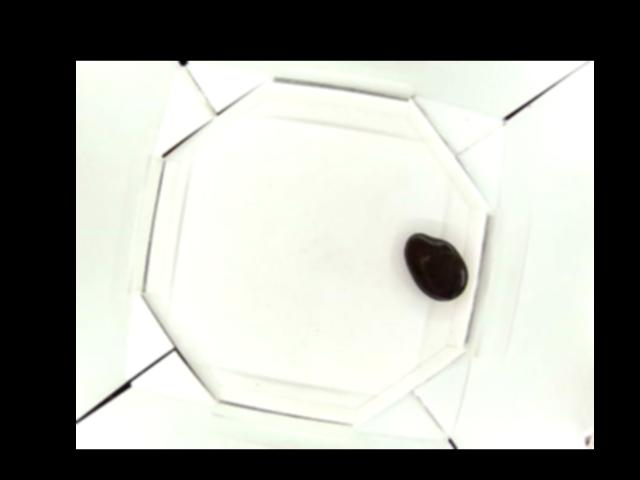Pebble: (404, 232, 465, 303)
